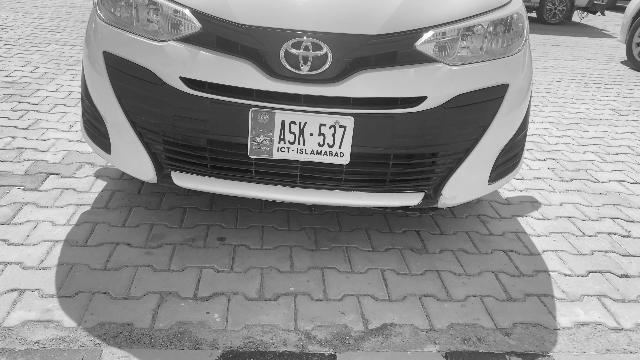Number: (278, 119, 349, 151)
